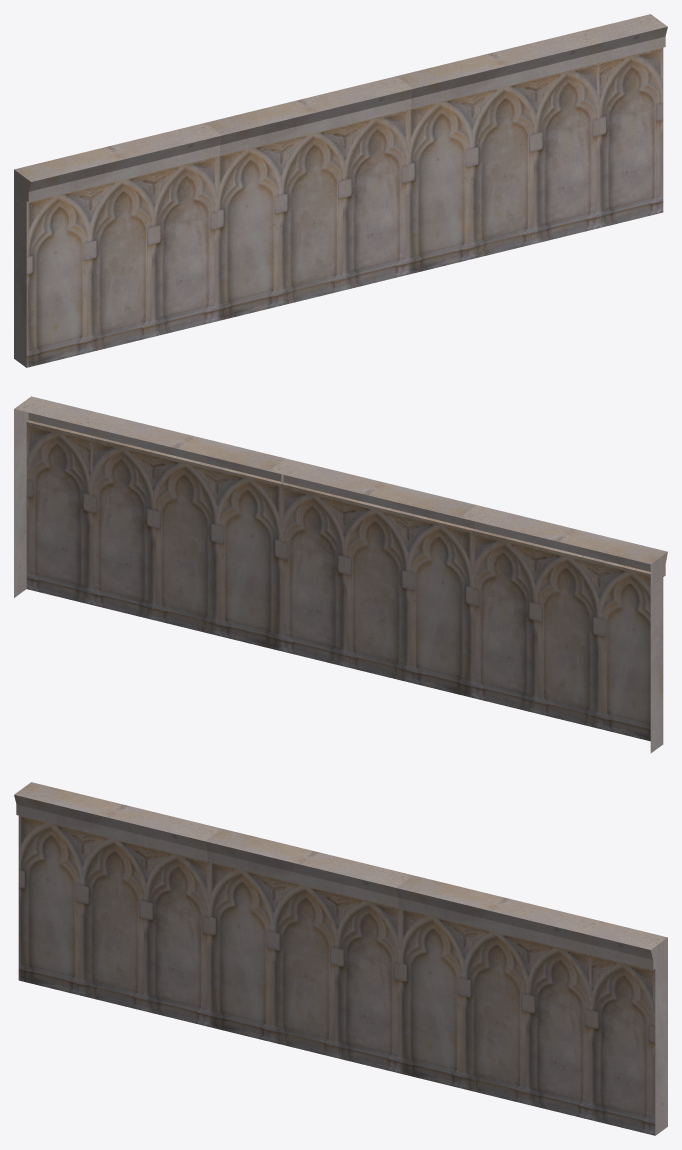
Rendered from WallFancy2Long.fbx.
3 views of the same model, one above another, from view 1: azimuth 30°, elevation 25°; view 2: azimuth 150°, elevation 25°; view 3: azimuth 330°, elevation 25° (orthographic).
Visible parts, largest first — view 1: Cube.002; view 2: Cube.002; view 3: Cube.002.
Boxes of the visible parts, bbox=[...] form: Cube.002: bbox=[14, 14, 667, 367]; Cube.002: bbox=[14, 396, 667, 753]; Cube.002: bbox=[14, 782, 667, 1135].
Bounding box in the file's own units: 799 × 227 × 37.57.
